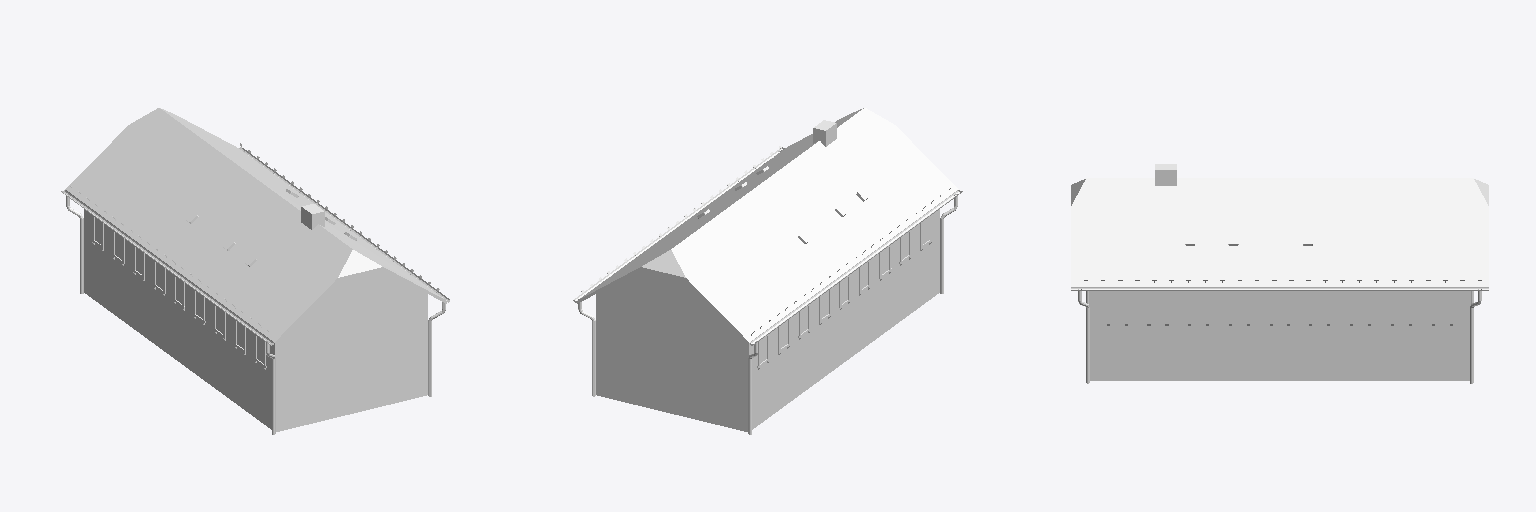
Rendered from OldTrainStation.obj.
3 views of the same model, side by side, from view 1: azimuth 30°, elevation 25°; view 2: azimuth 150°, elevation 25°; view 3: azimuth 270°, elevation 25° (orthographic).
Parts seen in each view (by area): view 1: 1_1000_budova_Plane, 1_0200_okapy_Circle, 1_0250_ramy_Cube.002, 1_0500_svetla_night_Plane.008; view 2: 1_1000_budova_Plane, 1_0200_okapy_Circle, 1_0250_ramy_Cube.002, 1_0500_svetla_night_Plane.008; view 3: 1_1000_budova_Plane, 1_0250_ramy_Cube.002, 1_0500_svetla_night_Plane.008, 1_0200_okapy_Circle.
Boxes of the visible parts, x1=… form: 1_1000_budova_Plane: x1=65, y1=108, x2=446, y2=431; 1_0200_okapy_Circle: x1=61, y1=147, x2=449, y2=434; 1_0250_ramy_Cube.002: x1=92, y1=215, x2=266, y2=369; 1_0500_svetla_night_Plane.008: x1=95, y1=220, x2=360, y2=395; 1_1000_budova_Plane: x1=577, y1=108, x2=958, y2=431; 1_0200_okapy_Circle: x1=573, y1=147, x2=962, y2=434; 1_0250_ramy_Cube.002: x1=757, y1=215, x2=931, y2=369; 1_0500_svetla_night_Plane.008: x1=663, y1=234, x2=908, y2=410; 1_1000_budova_Plane: x1=1071, y1=178, x2=1488, y2=380; 1_0250_ramy_Cube.002: x1=1105, y1=291, x2=1454, y2=325; 1_0500_svetla_night_Plane.008: x1=1152, y1=299, x2=1448, y2=367; 1_0200_okapy_Circle: x1=1071, y1=288, x2=1488, y2=383.
Bounding box in the file's own units: 15.26 × 14.34 × 30.61.